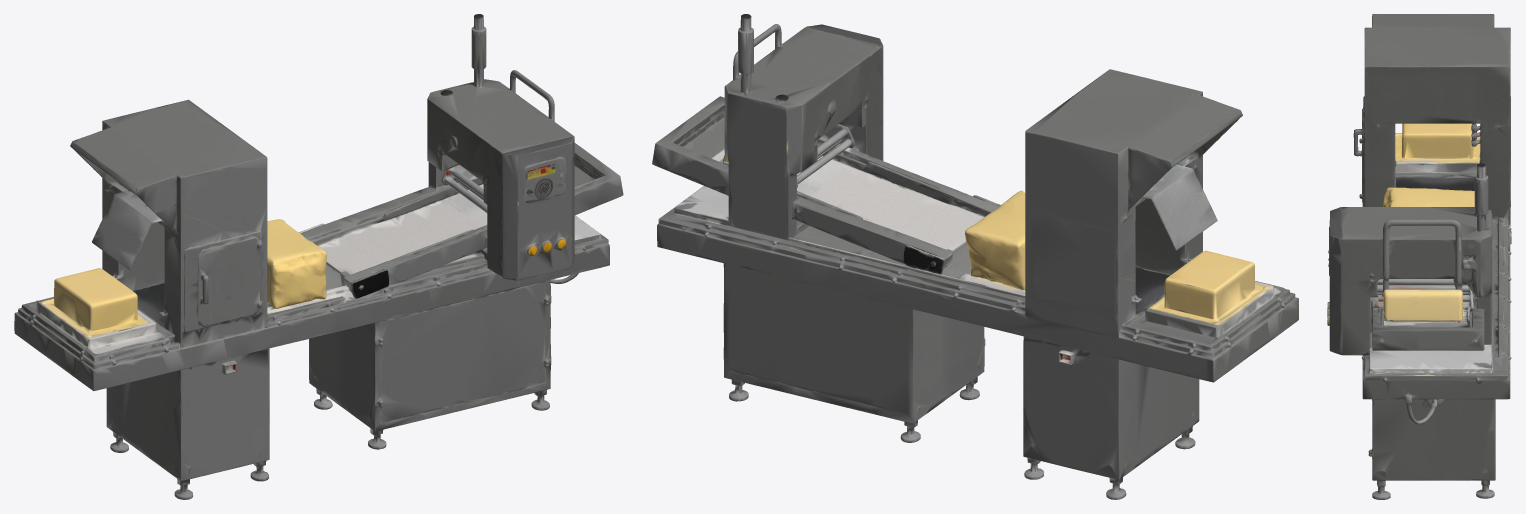
Rendered from cheese-line.glb.
3 views of the same model, side by side, from view 1: azimuth 30°, elevation 25°; view 2: azimuth 150°, elevation 25°; view 3: azimuth 270°, elevation 25° (orthographic). The views are drawn at different scales.
Size of the model in its own units: 1.9 by 1.2 by 0.61.
Materials: 1 (1 with a texture image).
